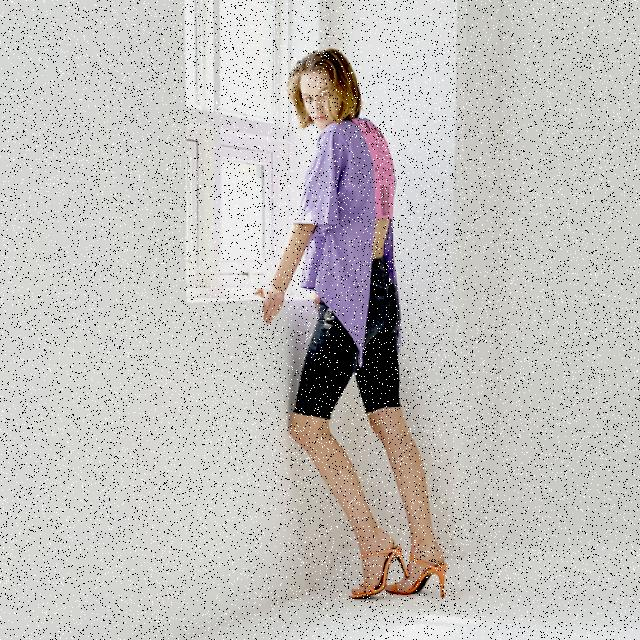Blouse_deep: (292, 251, 401, 407)
